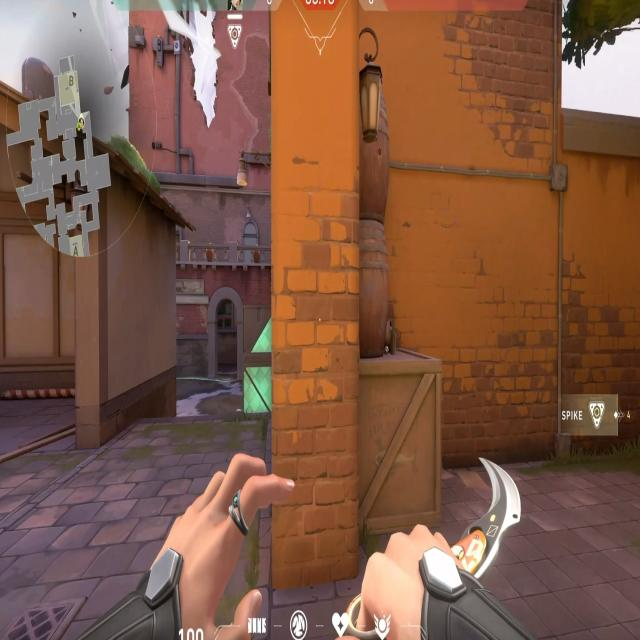B_Boathouse: (206, 281, 245, 382)
